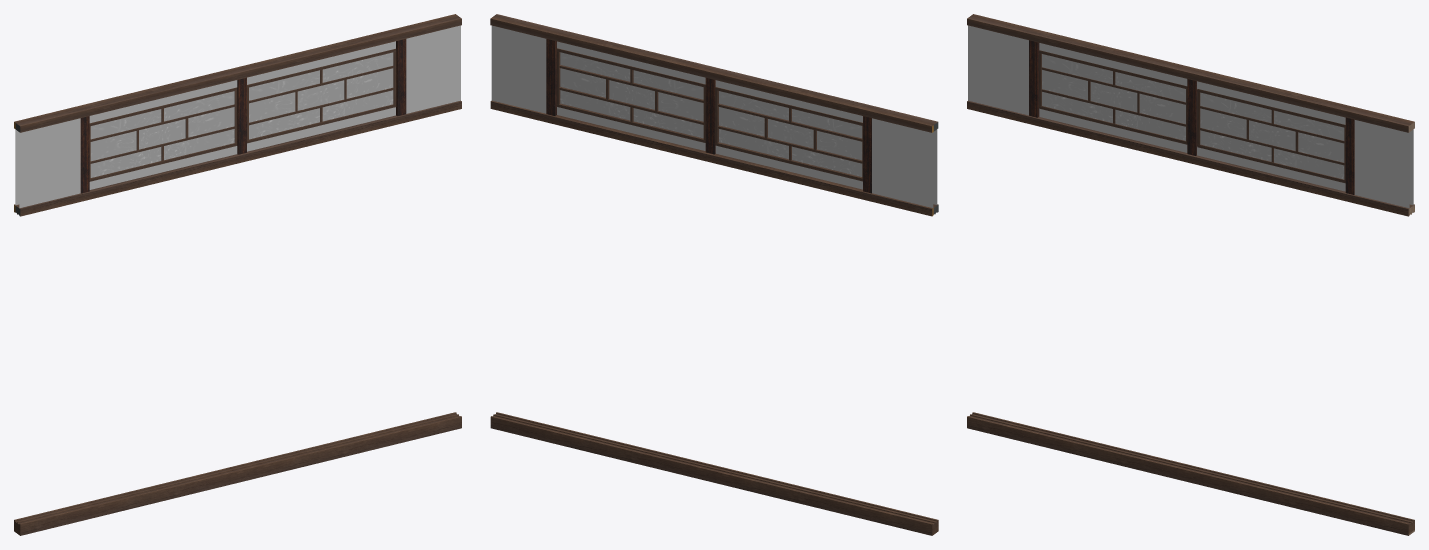
Rendered from jov_inwall_ranma_1.5t03.fbx.
3 renders of one model, left to right at view 1: azimuth 30°, elevation 25°; view 2: azimuth 150°, elevation 25°; view 3: azimuth 330°, elevation 25°, orthographic.
Parts seen in each view (by area): view 1: jov_inwall_ranma_1.5t03; view 2: jov_inwall_ranma_1.5t03; view 3: jov_inwall_ranma_1.5t03.
Boxes of the visible parts, <box> form: jov_inwall_ranma_1.5t03: <box>14,14,461,535</box>; jov_inwall_ranma_1.5t03: <box>490,14,938,535</box>; jov_inwall_ranma_1.5t03: <box>967,14,1414,535</box>.
Size of the model in its own units: 330 by 293 by 8.22.
